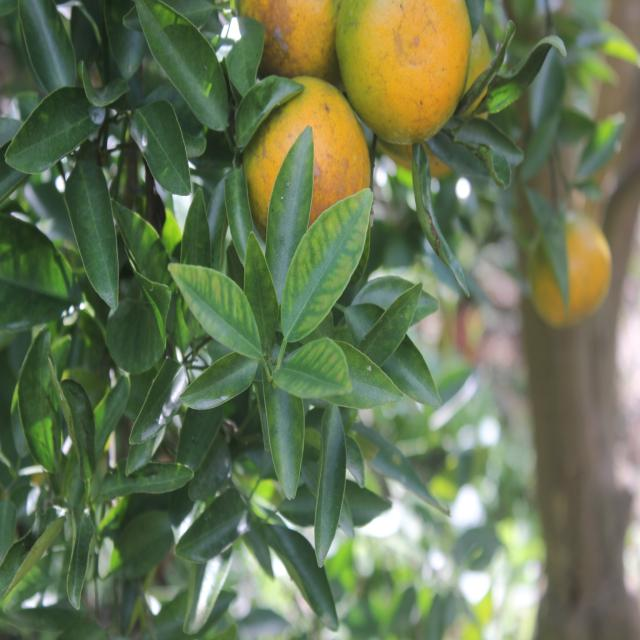greening: (285, 194, 376, 339), (173, 262, 260, 363), (276, 335, 354, 397)
